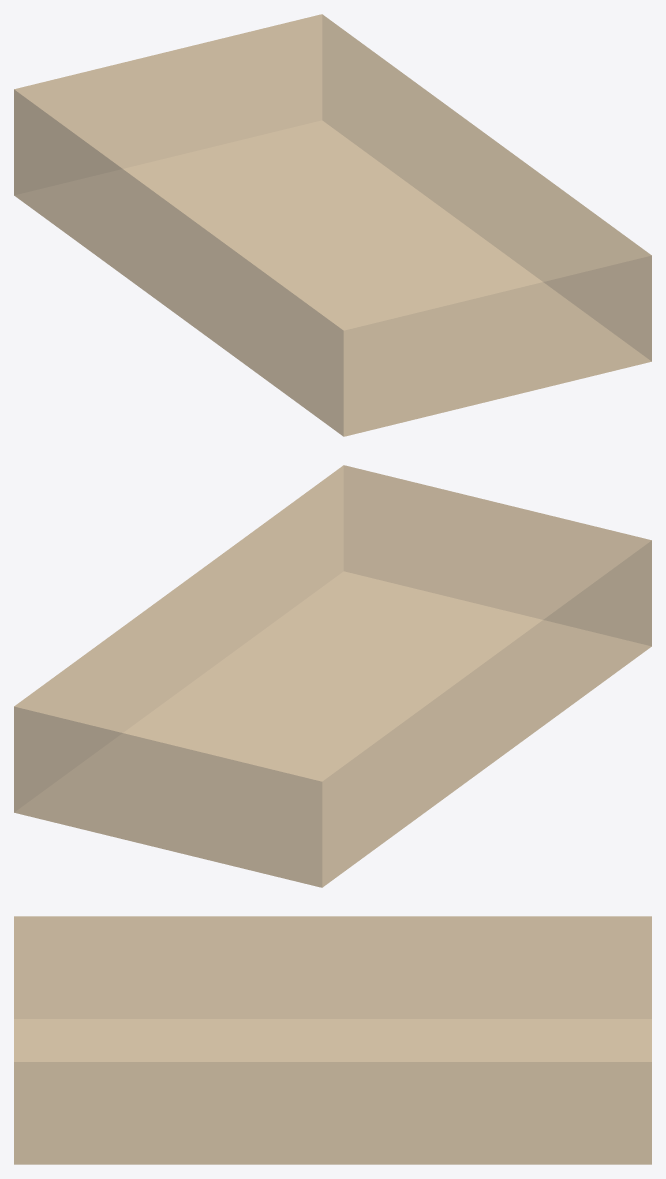
Rendered from blockout.glb.
3 renders of one model, top to bottom at view 1: azimuth 30°, elevation 25°; view 2: azimuth 150°, elevation 25°; view 3: azimuth 270°, elevation 25°, orthographic. The views are drawn at different scales.
Parts seen in each view (by area): view 1: C10_ENVELOPE_NOT_FINAL_MESH; view 2: C10_ENVELOPE_NOT_FINAL_MESH; view 3: C10_ENVELOPE_NOT_FINAL_MESH.
Part boxes in pixels (x1,y1,x2,y2): C10_ENVELOPE_NOT_FINAL_MESH: (14,14,651,436); C10_ENVELOPE_NOT_FINAL_MESH: (14,465,651,887); C10_ENVELOPE_NOT_FINAL_MESH: (14,916,651,1164).
Bounding box in the file's own units: 4.1 × 1.35 × 7.6.
